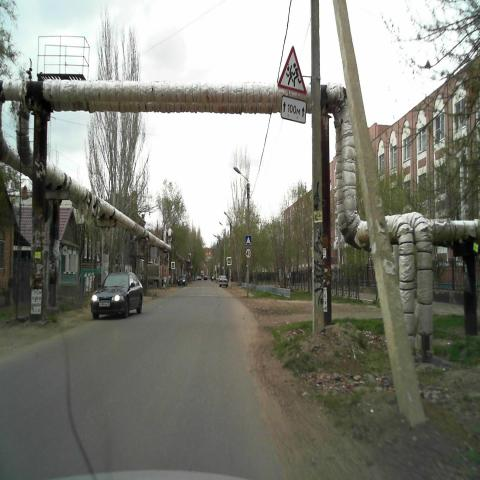8_2_1: (280, 95, 306, 125)
